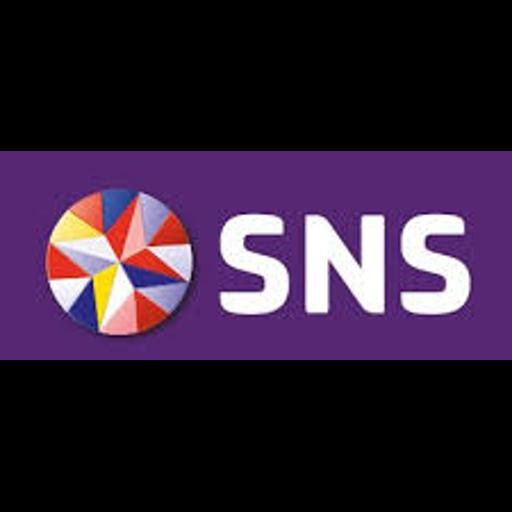SNS Bank N-V: (0, 151, 512, 360)
